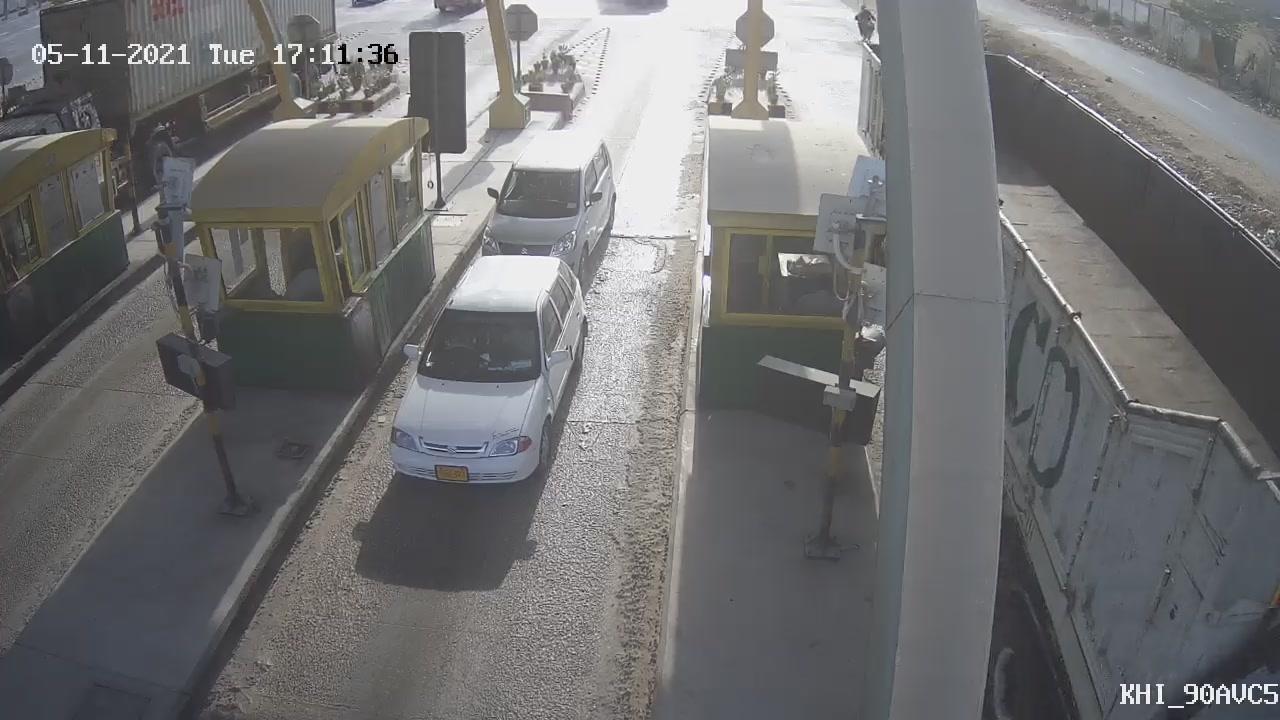F1: (365, 235, 616, 505), (459, 120, 637, 299)
